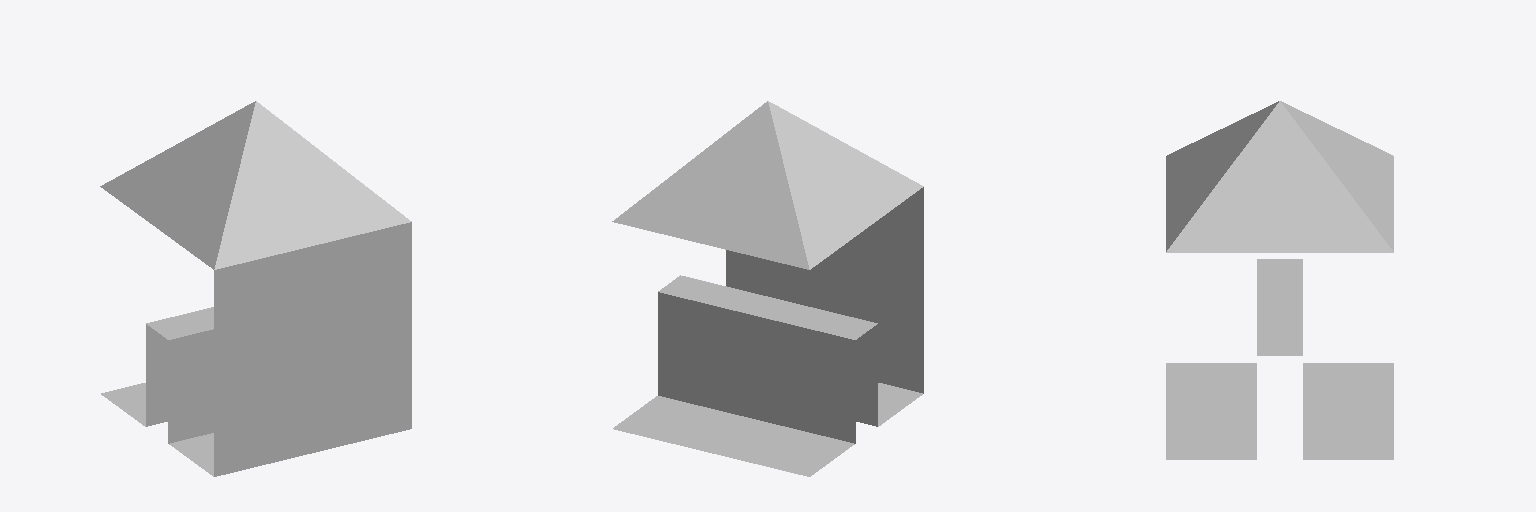
Rendered from wallhole.obj.
The picture shows the model from 3 angles: view 1: azimuth 30°, elevation 25°; view 2: azimuth 150°, elevation 25°; view 3: azimuth 270°, elevation 25°; orthographic projection.
Bounding box in the file's own units: 10 × 15 × 10.